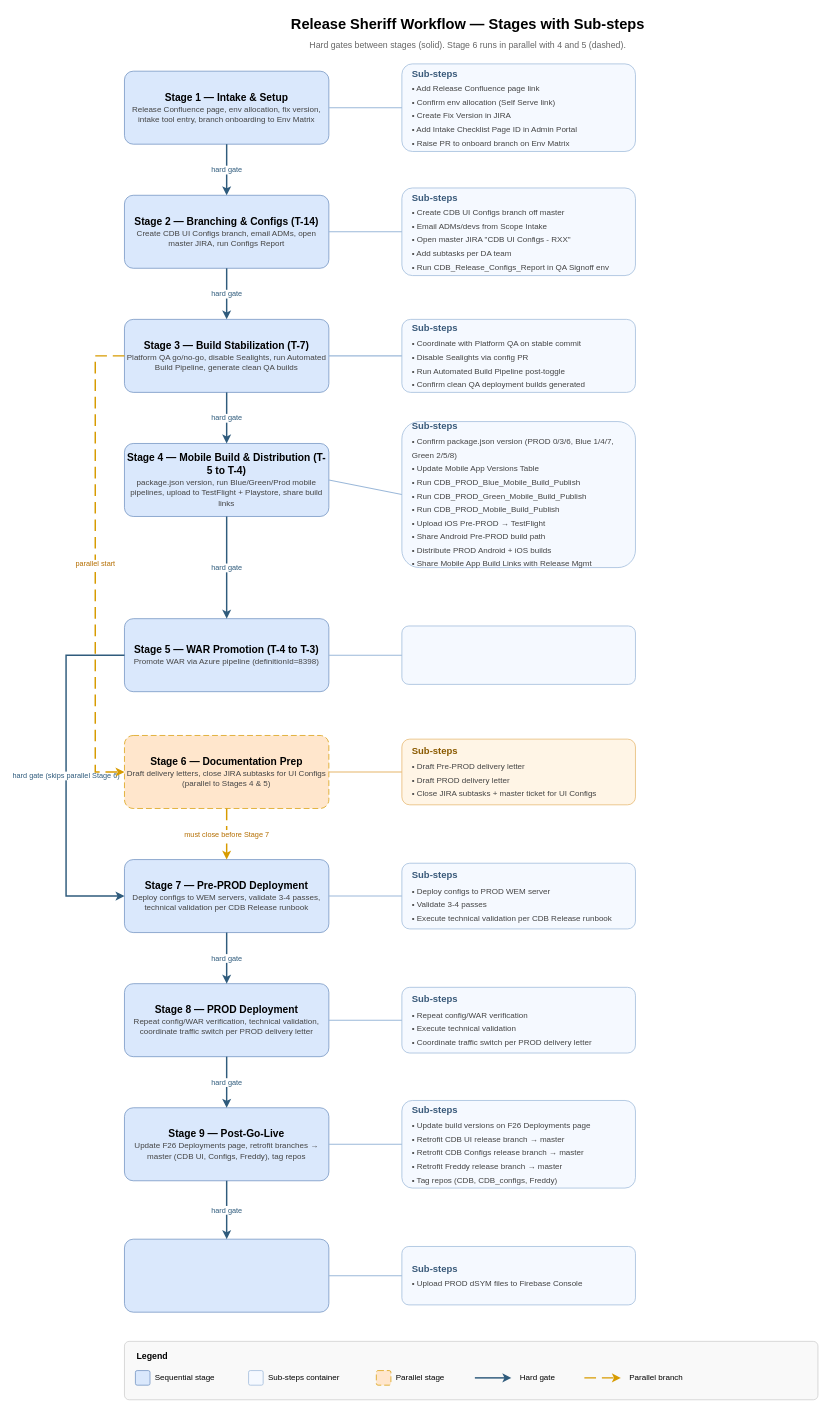
The diagram is 831 pixels wide and 1413 high, and some of its shapes have lost their labels. The centre of each missing label's shape, as x and y in pixels:
"Stage 10 — Post Mobile App Release Upload PROD dSYM files to Firebase Console" goes at pixel 226 1275.
"Sub-steps • Promote WAR via Azure pipeline (definitionId=8398)" goes at pixel 518 654.
